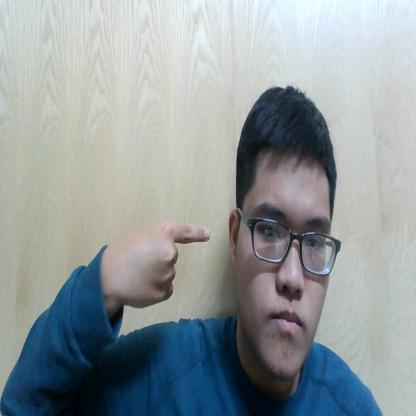left: (117, 211, 214, 312)
